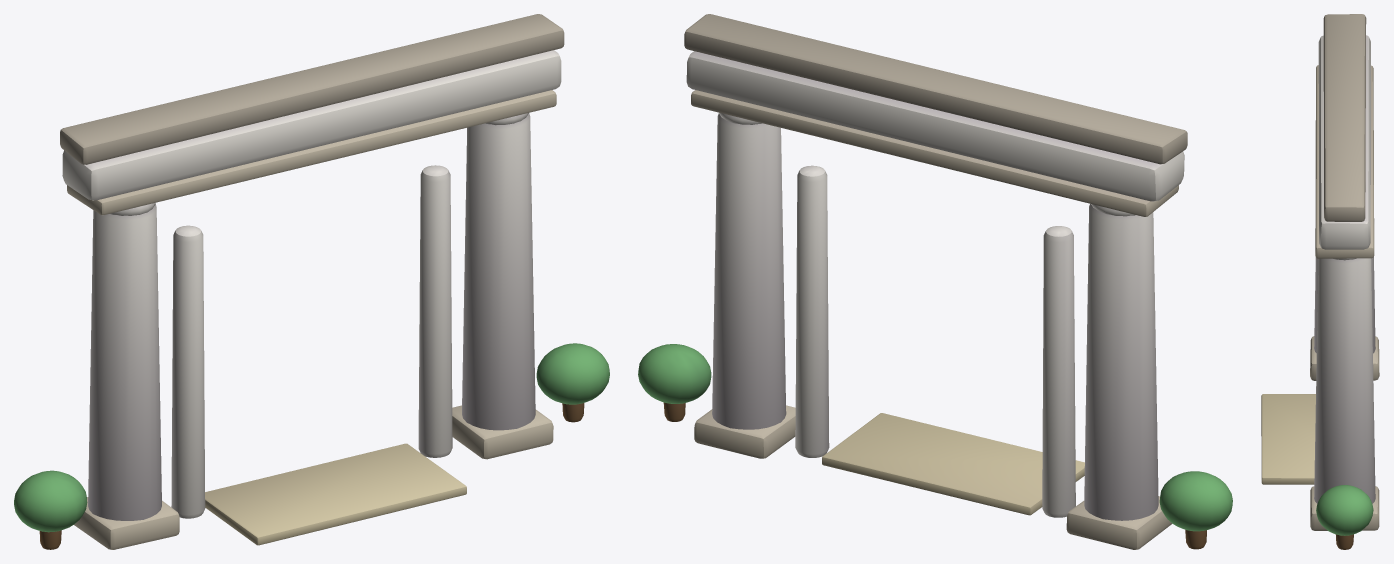
The picture shows the model from 3 angles, left to right: view 1: azimuth 30°, elevation 25°; view 2: azimuth 150°, elevation 25°; view 3: azimuth 270°, elevation 25°; orthographic projection. The views are drawn at different scales.
Parts seen in each view (by area): view 1: gate_396760e2; view 2: gate_396760e2; view 3: gate_396760e2.
Boxes of the visible parts, box(x1,y1,x2,y2) form: gate_396760e2: box(14, 14, 609, 549); gate_396760e2: box(638, 14, 1232, 549); gate_396760e2: box(1261, 14, 1379, 549).
Size of the model in its own units: 6.71 by 4.43 by 1.42.
